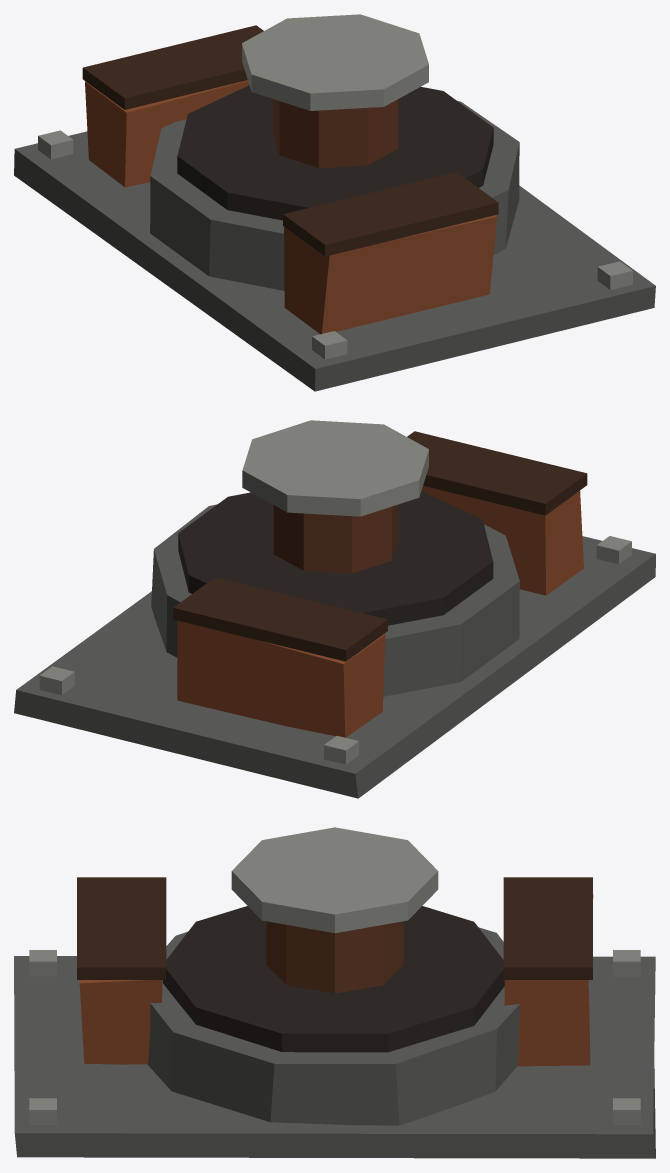
File: wmount_ring_wide.glb
The picture shows the model from 3 angles, top to bottom: view 1: azimuth 30°, elevation 25°; view 2: azimuth 150°, elevation 25°; view 3: azimuth 270°, elevation 25°; orthographic projection. The views are drawn at different scales.
Parts seen in each view (by area): view 1: wmount_ring_wide; view 2: wmount_ring_wide; view 3: wmount_ring_wide.
Part boxes in pixels (box(x1,y1,x2,y2)): wmount_ring_wide: box(14, 14, 655, 391); wmount_ring_wide: box(14, 420, 655, 798); wmount_ring_wide: box(14, 827, 655, 1158).
Bounding box in the file's own units: 0.6154 × 0.3226 × 0.933.
